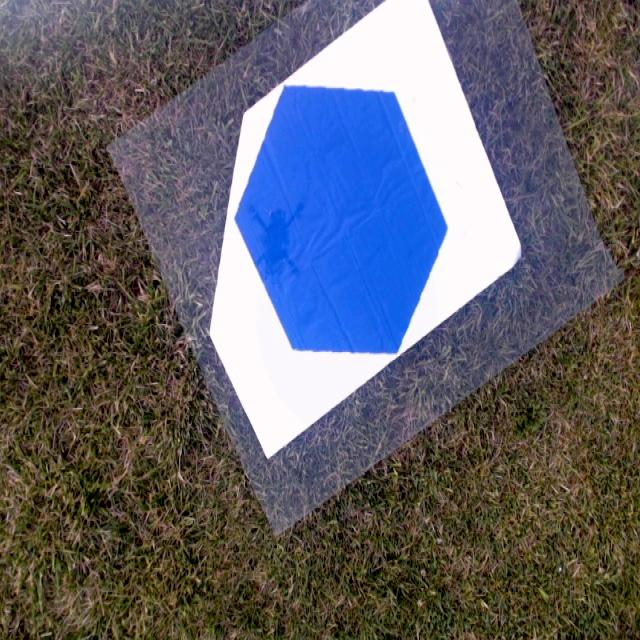blue_hexagon: (236, 83, 448, 355)
